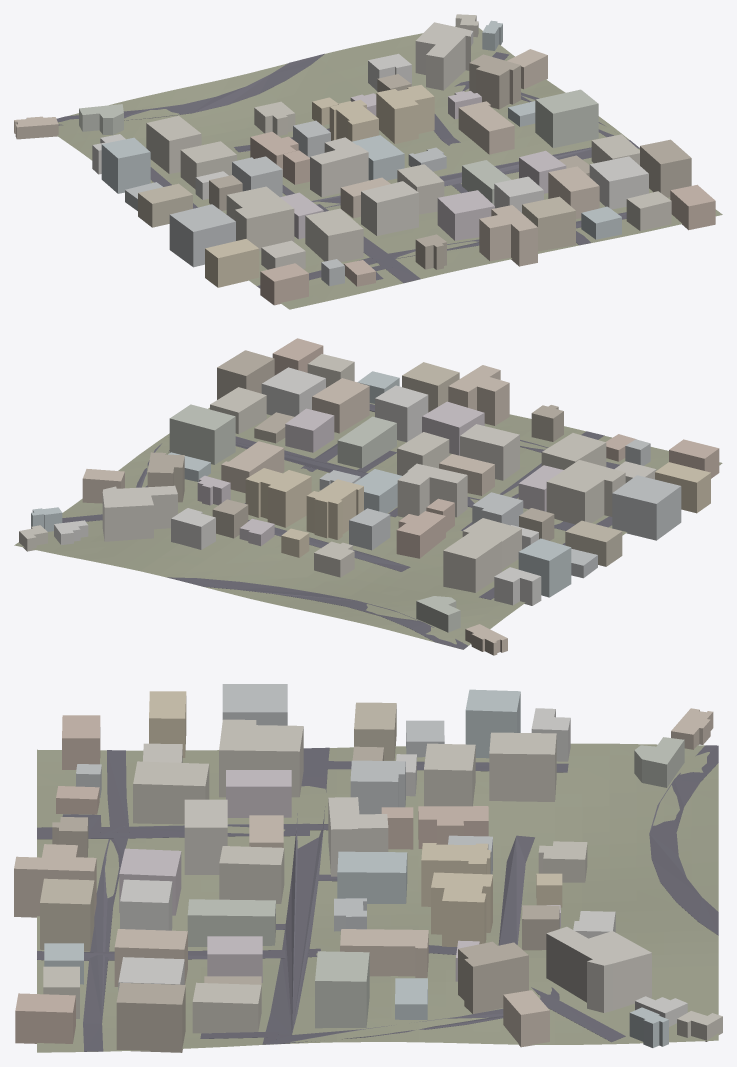
Rendered from chunk_0_4.glb.
The picture shows the model from 3 angles, top to bottom: view 1: azimuth 30°, elevation 25°; view 2: azimuth 150°, elevation 25°; view 3: azimuth 270°, elevation 25°; orthographic projection. The views are drawn at different scales.
Visible parts, largest first — view 1: geometry_61, geometry_0, geometry_58, geometry_47, geometry_12, geometry_42, geometry_24, geometry_7, geometry_46, geometry_11, geometry_23, geometry_45 (+45 smaller); view 2: geometry_61, geometry_0, geometry_47, geometry_12, geometry_58, geometry_24, geometry_33, geometry_46, geometry_27, geometry_42, geometry_63, geometry_7 (+49 smaller); view 3: geometry_61, geometry_47, geometry_81, geometry_5, geometry_33, geometry_0, geometry_63, geometry_24, geometry_45, geometry_58, geometry_11, geometry_3 (+53 smaller).
Boxes of the visible parts, x1,y1,x2,y2 form: geometry_61: (57,26,722,309); geometry_0: (226,186,294,250); geometry_58: (535,89,598,148); geometry_47: (415,22,470,90); geometry_12: (169,204,235,267); geometry_42: (479,205,537,266); geometry_24: (376,85,434,143); geometry_7: (361,181,418,235); geometry_46: (310,137,368,197); geometry_11: (305,208,363,262); geometry_23: (101,137,150,193); geometry_45: (469,54,520,109); geometry_61: (14,403,722,649); geometry_0: (546,460,625,524); geometry_47: (102,485,177,541); geometry_12: (612,475,681,540); geometry_58: (169,404,235,464); geometry_24: (245,468,311,527); geometry_33: (443,532,501,592); geometry_46: (397,463,467,517); geometry_27: (306,479,363,539); geometry_42: (448,365,509,425); geometry_63: (167,577,467,649); geometry_7: (460,424,519,480); geometry_61: (37,743,718,1052); geometry_47: (546,926,651,1012); geometry_81: (262,777,327,1044); geometry_5: (116,982,185,1052); geometry_33: (489,732,556,801); geometry_0: (219,719,303,797); geometry_63: (649,745,718,935); geometry_24: (431,872,492,946); geometry_45: (458,941,528,1013); geometry_58: (315,951,369,1028); geometry_11: (133,761,209,824); geometry_3: (187,899,275,946).
Bounding box in the file's own units: 272 × 27.15 × 260.
